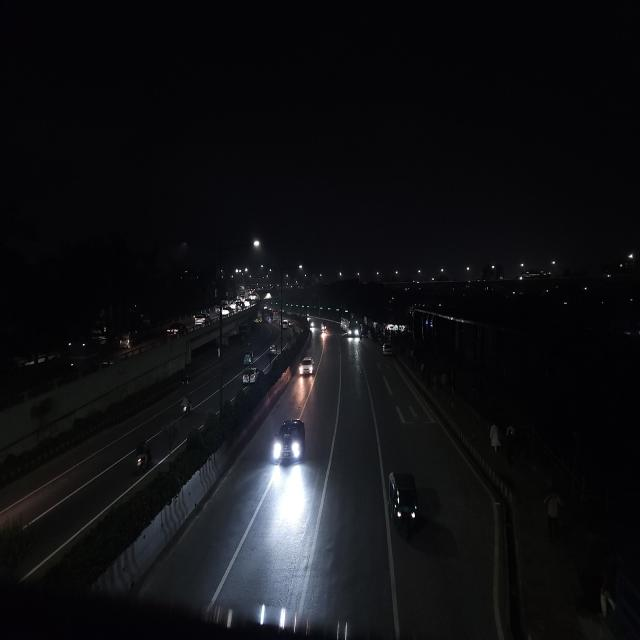bus: (341, 310, 358, 340), (348, 314, 360, 339)
car: (270, 415, 308, 469), (298, 355, 314, 378), (167, 323, 186, 338), (381, 340, 393, 358), (194, 315, 208, 328), (279, 318, 290, 330), (221, 306, 232, 318)
cng: (384, 466, 422, 543), (118, 326, 140, 353), (242, 347, 254, 367), (320, 321, 328, 335), (270, 343, 276, 355)
motorcycle: (130, 436, 155, 477), (176, 393, 194, 418)
pedestrian: (542, 489, 564, 543), (488, 418, 498, 462), (358, 332, 362, 344)
